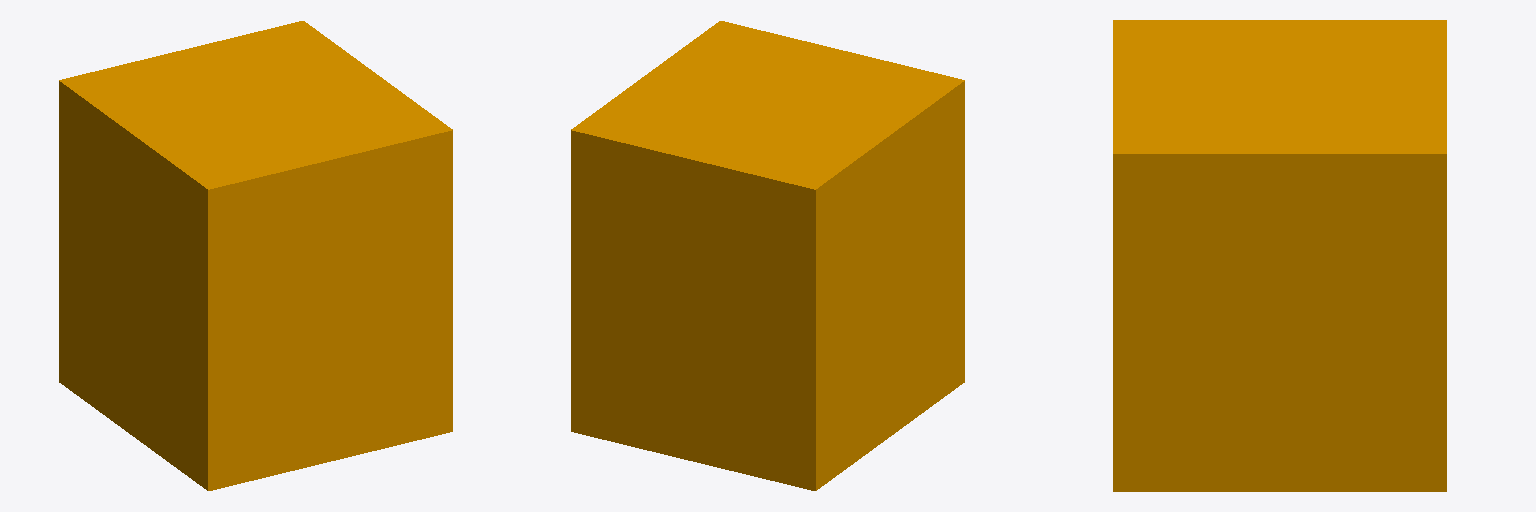
URDF robot description (object):
<robot name="object">
  <link name="object">
    <visual>
      <origin xyz="0 0 0" />
      <geometry>
        <box size="0.068 0.07200000000000001 0.08" />
      </geometry>
    </visual>

    <collision>
      <origin xyz="0 0 0" />
      <geometry>
        <box size="0.068 0.07200000000000001 0.08" />
      </geometry>
    </collision>

    <inertial>
      <mass value="0.05" />
      <inertia ixx="0.0001" ixy="0.0" ixz="0.0" iyy="0.0001" iyz="0.0" izz="0.0001" />
    </inertial>
  </link>
</robot>

--- What the picture shows (computed from the rendered views, not written in the file) ---
3 views of the same robot in one strip: view 1: azimuth 30°, elevation 25°; view 2: azimuth 150°, elevation 25°; view 3: azimuth 270°, elevation 25° (orthographic).
Robot: object — 1 links, 0 joints (none); root link object; default pose: all joints at 0.
Visible links, largest first — view 1: object; view 2: object; view 3: object.
Boxes of the visible links, box(x1,y1,x2,y2) form: object: box(59, 21, 452, 490); object: box(571, 21, 964, 490); object: box(1113, 20, 1446, 491).
Size in the robot's own frame: 0.068 by 0.072 by 0.08 metres.
Geometry: primitives only (box / cylinder / sphere), no mesh files.